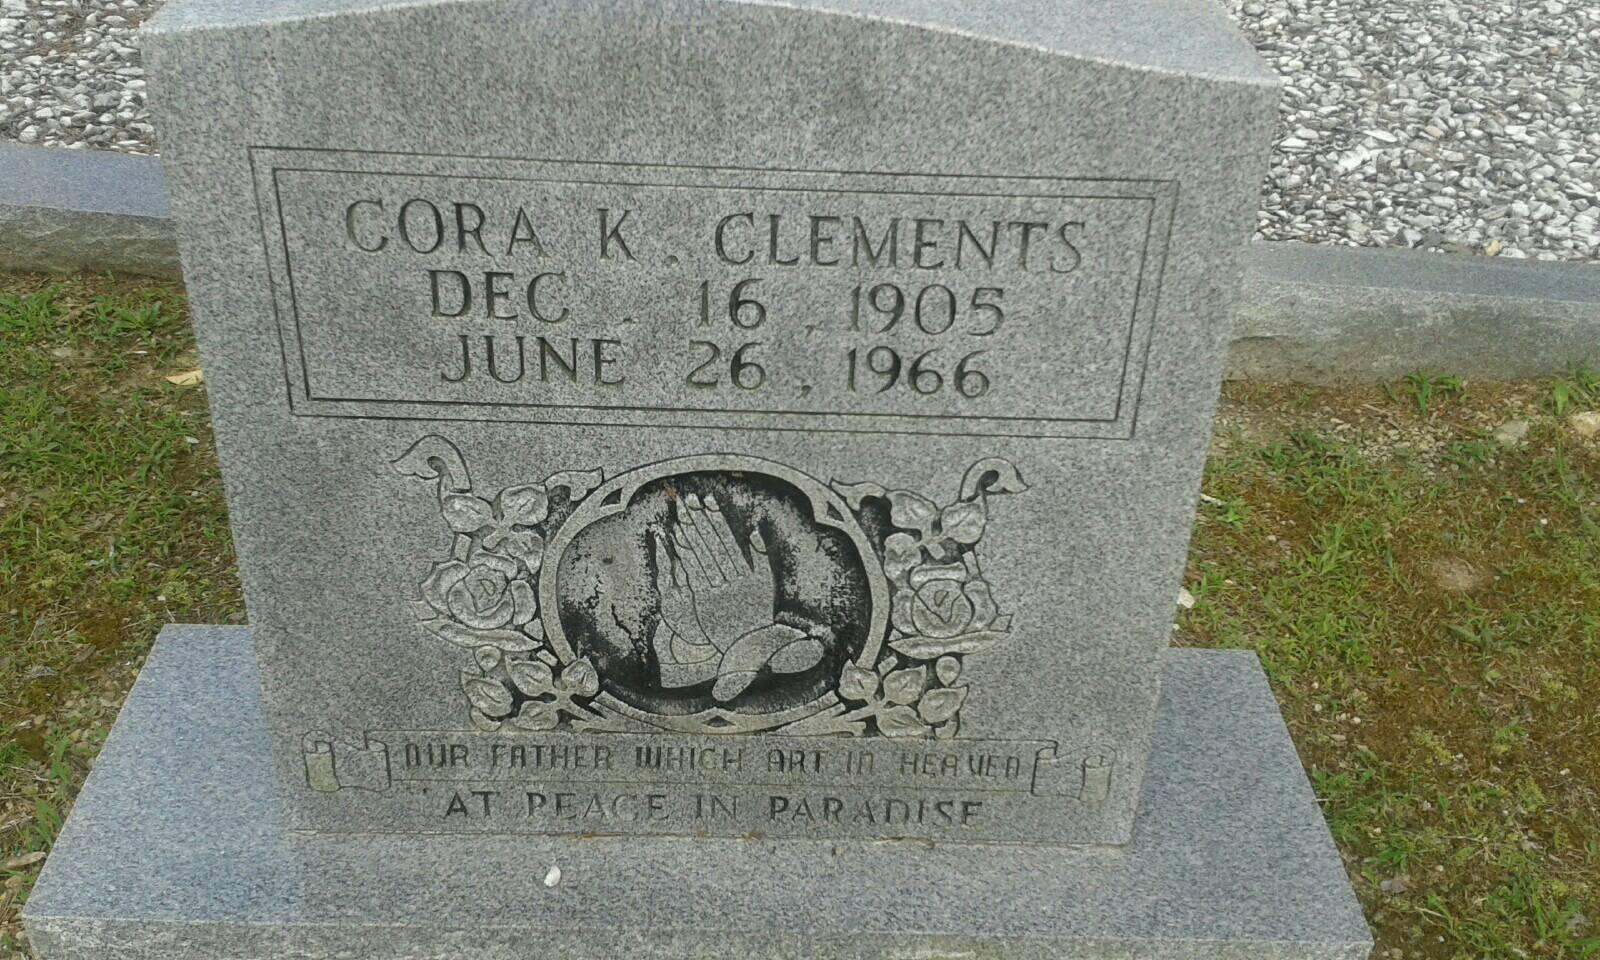upright: (136, 0, 1278, 843)
